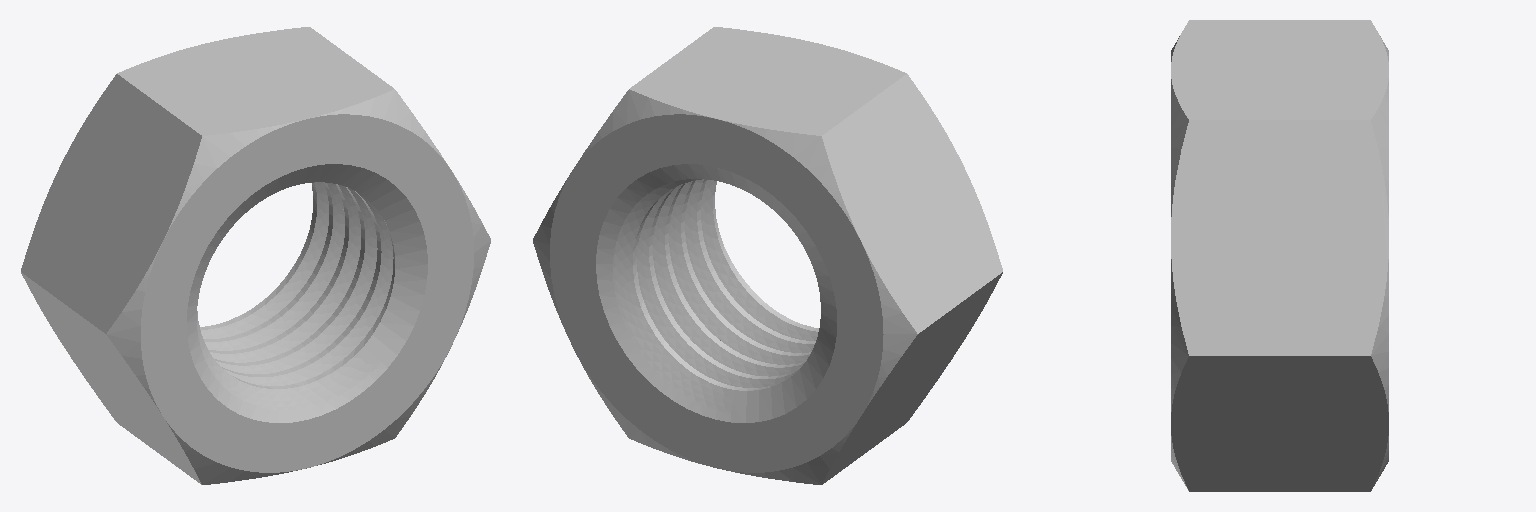
robot.urdf — nut:
<?xml version="1.0" ?>
<robot name="nut">
   <link name="nut">
      <contact>
         <lateral_friction value="1.0"/>
         <rolling_friction value="0.0"/>
         <inertia_scaling value="1.0"/>
         <contact_cfm value="0.0"/>
         <contact_erp value="1.0"/>
      </contact>
      <inertial>
         <origin rpy="0 0 0" xyz="0 0 0"/>
         <mass value="0.1"/>
         <inertia ixx="1" ixy="0" ixz="0" iyy="1" iyz="0" izz="1"/>
      </inertial>
      <visual>
         <origin rpy="0 0 0" xyz="0 0 0"/>
         <geometry>
            <mesh filename="./nut.obj" scale="0.0015 0.0015 0.0015"/>
         </geometry>
         <material name="gray">
            <color rgba="0.8 0.8 0.8 1"/>
         </material>
      </visual>
      <collision>
         <origin rpy="0 0 0" xyz="0 0 0"/>
         <geometry>
            <mesh filename="./nut.obj" scale="0.0015 0.0015 0.0015"/>
         </geometry>
      </collision>
   </link>
</robot>

--- What the picture shows (computed from the rendered views, not written in the file) ---
3 views of the same robot in one strip: view 1: azimuth 30°, elevation 25°; view 2: azimuth 150°, elevation 25°; view 3: azimuth 270°, elevation 25° (orthographic).
Robot: nut — 1 links, 0 joints (none); root link nut; default pose: all joints at 0.
Links seen in each view (by area): view 1: nut; view 2: nut; view 3: nut.
Boxes of the visible links, x1,y1,x2,y2 form: nut: (21,27,490,484); nut: (533,27,1002,484); nut: (1171,20,1388,491).
Bounding box of the posed robot: 0.052 × 0.024 × 0.045 m (x, y, z).
Meshes: 1 distinct files referenced, 1 mesh visuals loaded (1 OBJ).